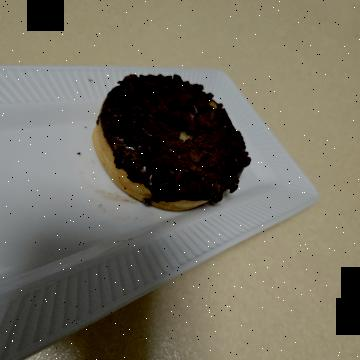doughnut: (58, 99, 228, 282)
